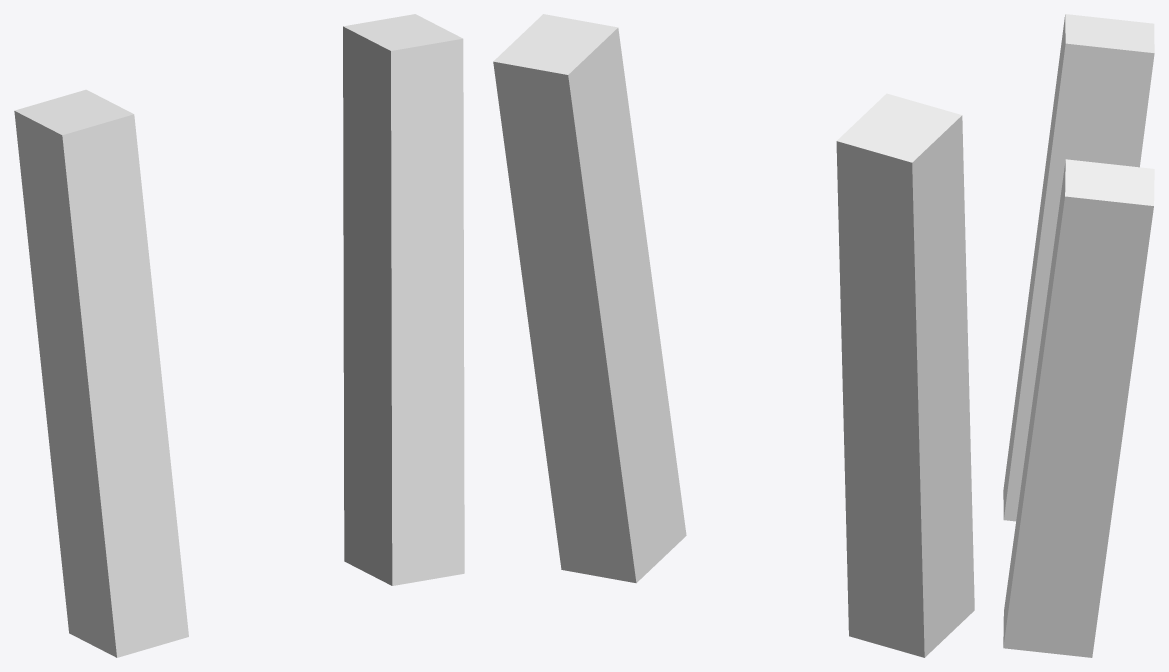
Rendered from penLight.gltf.
3 renders of one model, left to right at view 1: azimuth 30°, elevation 25°; view 2: azimuth 150°, elevation 25°; view 3: azimuth 270°, elevation 25°, orthographic. The views are drawn at different scales.
Parts seen in each view (by area): view 1: Cube; view 2: Cube; view 3: Cube.
Boxes of the visible parts, x1=… form: Cube: x1=14, y1=14, x2=464, y2=657; Cube: x1=493, y1=14, x2=974, y2=657; Cube: x1=1003, y1=14, x2=1154, y2=657.
Bounding box in the file's own units: 0.2773 × 0.3425 × 0.0978.
1 material, 1 textured.
